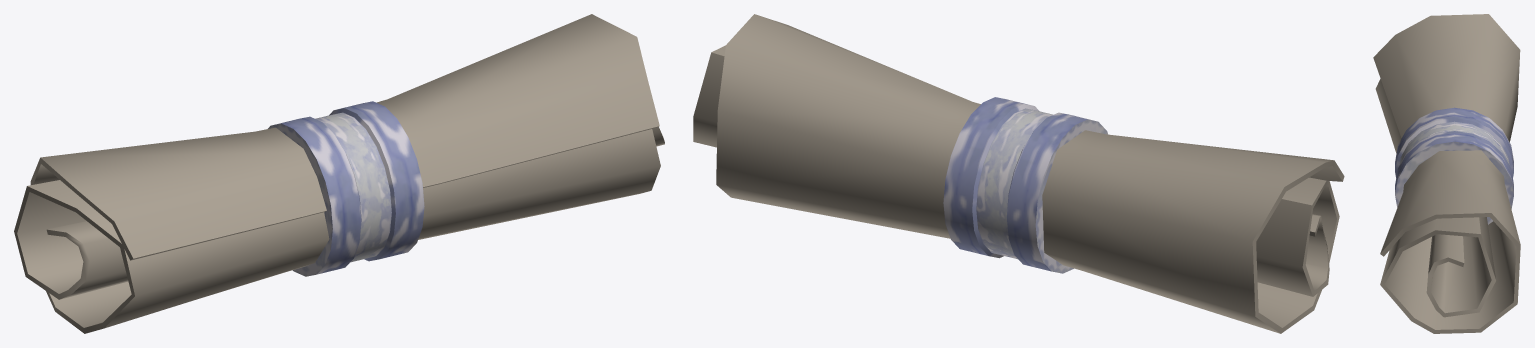
Rendered from Scroll_2.fbx.
3 views of the same model, side by side, from view 1: azimuth 30°, elevation 25°; view 2: azimuth 150°, elevation 25°; view 3: azimuth 270°, elevation 25° (orthographic). The views are drawn at different scales.
Visible parts, largest first — view 1: Scroll_2; view 2: Scroll_2; view 3: Scroll_2.
Part boxes in pixels (bbox=[...]): Scroll_2: bbox=[14, 14, 664, 333]; Scroll_2: bbox=[693, 14, 1344, 333]; Scroll_2: bbox=[1373, 14, 1520, 333].
Size of the model in its own units: 23.29 by 5.87 by 6.37.
